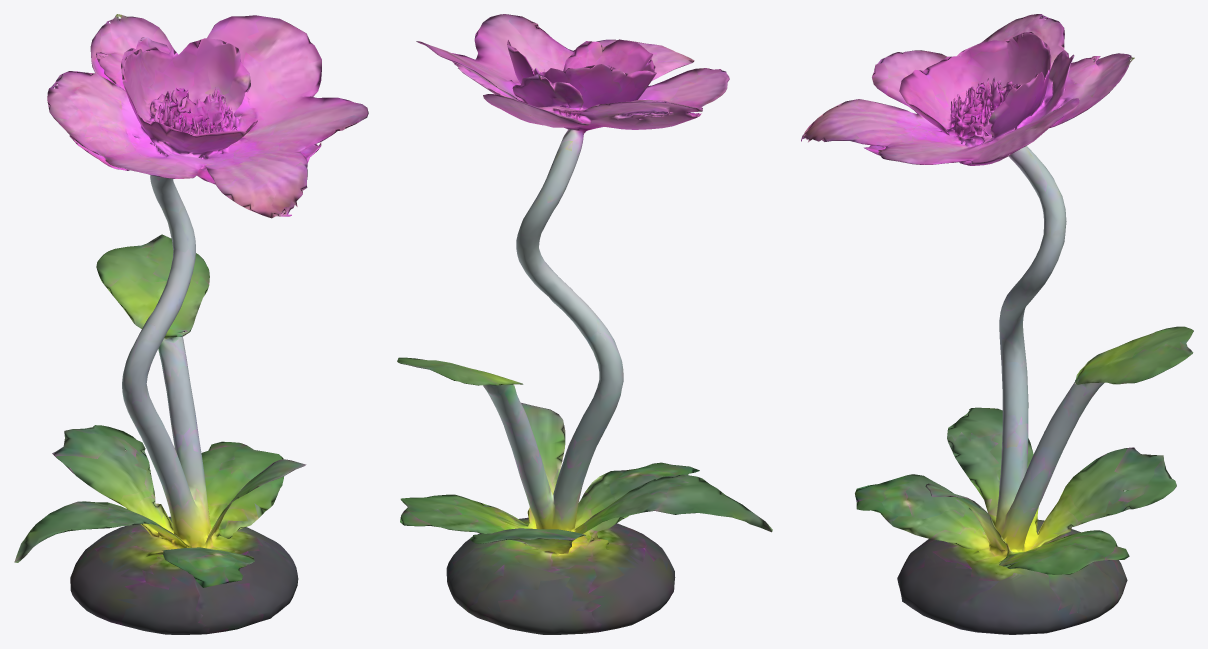
File: plant4.glb
3 views of the same model, side by side, from view 1: azimuth 30°, elevation 25°; view 2: azimuth 150°, elevation 25°; view 3: azimuth 270°, elevation 25° (orthographic).
Size of the model in its own units: 1.15 by 1.84 by 1.22.
1 material, 1 textured.
